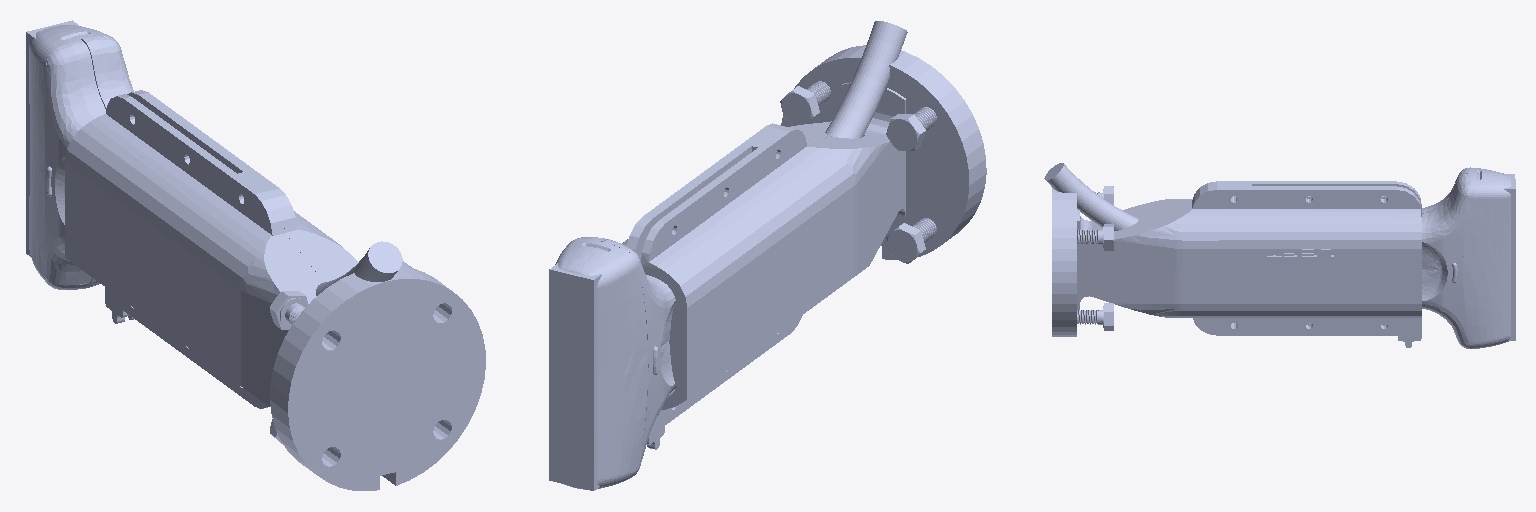
URDF robot description (ur5):
<?xml version="1.0" ?>
<!-- =================================================================================== -->
<!-- |    This document was autogenerated by xacro from ur5_robot.urdf.xacro           | -->
<!-- |    EDITING THIS FILE BY HAND IS NOT RECOMMENDED                                 | -->
<!-- =================================================================================== -->
<robot name="ur5" xmlns:xacro="http://www.ros.org/wiki/xacro">
  <!-- common stuff -->
  <gazebo>
    <plugin filename="libgazebo_ros_control.so" name="ros_control">
      <!--robotNamespace>/</robotNamespace-->
      <!--robotSimType>gazebo_ros_control/DefaultRobotHWSim</robotSimType-->
    </plugin>
    <!--
    <plugin name="gazebo_ros_power_monitor_controller" filename="libgazebo_ros_power_monitor.so">
      <alwaysOn>true</alwaysOn>
      <updateRate>1.0</updateRate>
      <timeout>5</timeout>
      <powerStateTopic>power_state</powerStateTopic>
      <powerStateRate>10.0</powerStateRate>
      <fullChargeCapacity>87.78</fullChargeCapacity>     
      <dischargeRate>-474</dischargeRate>
      <chargeRate>525</chargeRate>
      <dischargeVoltage>15.52</dischargeVoltage>
      <chargeVoltage>16.41</chargeVoltage>
    </plugin>
-->
  </gazebo>
  <!-- ur5 -->
  <!-- arm -->
  <link name="base_link">
    <visual>
      <geometry>
        <mesh filename="package://ur_description/meshes/ur5/visual/Base.dae"/>
      </geometry>
      <material name="LightGrey">
        <color rgba="0.7 0.7 0.7 1.0"/>
      </material>
    </visual>
    <collision>
      <geometry>
        <mesh filename="package://ur_description/meshes/ur5/collision/base.stl"/>
      </geometry>
    </collision>
    <inertial>
      <mass value="4.0"/>
      <origin rpy="0 0 0" xyz="0.0 0.0 0.0"/>
      <inertia ixx="0.00443333156" ixy="0.0" ixz="0.0" iyy="0.00443333156" iyz="0.0" izz="0.0072"/>
    </inertial>
  </link>
  <joint name="shoulder_pan_joint" type="revolute">
    <parent link="base_link"/>
    <child link="shoulder_link"/>
    <origin rpy="0.0 0.0 0.0" xyz="0.0 0.0 0.089159"/>
    <axis xyz="0 0 1"/>
    <limit effort="150.0" lower="-6.2831853" upper="6.2831853" velocity="3.15"/>
    <dynamics damping="0.0" friction="0.0"/>
  </joint>
  <link name="shoulder_link">
    <visual>
      <geometry>
        <mesh filename="package://ur_description/meshes/ur5/visual/Shoulder.dae"/>
      </geometry>
      <material name="LightGrey">
        <color rgba="0.7 0.7 0.7 1.0"/>
      </material>
    </visual>
    <collision>
      <geometry>
        <mesh filename="package://ur_description/meshes/ur5/collision/shoulder.stl"/>
      </geometry>
    </collision>
    <inertial>
      <mass value="3.7"/>
      <origin rpy="0 0 0" xyz="0.0 0.0 0.0"/>
      <inertia ixx="0.010267495893" ixy="0.0" ixz="0.0" iyy="0.010267495893" iyz="0.0" izz="0.00666"/>
    </inertial>
  </link>
  <joint name="shoulder_lift_joint" type="revolute">
    <parent link="shoulder_link"/>
    <child link="upper_arm_link"/>
    <origin rpy="0.0 1.570796325 0.0" xyz="0.0 0.13585 0.0"/>
    <axis xyz="0 1 0"/>
    <limit effort="150.0" lower="-6.2831853" upper="6.2831853" velocity="3.15"/>
    <dynamics damping="0.0" friction="0.0"/>
  </joint>
  <link name="upper_arm_link">
    <visual>
      <geometry>
        <mesh filename="package://ur_description/meshes/ur5/visual/UpperArm.dae"/>
      </geometry>
      <material name="LightGrey">
        <color rgba="0.7 0.7 0.7 1.0"/>
      </material>
    </visual>
    <collision>
      <geometry>
        <mesh filename="package://ur_description/meshes/ur5/collision/upper_arm.stl"/>
      </geometry>
    </collision>
    <inertial>
      <mass value="8.393"/>
      <origin rpy="0 0 0" xyz="0.0 0.0 0.28"/>
      <inertia ixx="0.22689067591" ixy="0.0" ixz="0.0" iyy="0.22689067591" iyz="0.0" izz="0.0151074"/>
    </inertial>
  </link>
  <joint name="elbow_joint" type="revolute">
    <parent link="upper_arm_link"/>
    <child link="forearm_link"/>
    <origin rpy="0.0 0.0 0.0" xyz="0.0 -0.1197 0.425"/>
    <axis xyz="0 1 0"/>
    <limit effort="150.0" lower="-6.2831853" upper="6.2831853" velocity="3.15"/>
    <dynamics damping="0.0" friction="0.0"/>
  </joint>
  <link name="forearm_link">
    <visual>
      <geometry>
        <mesh filename="package://ur_description/meshes/ur5/visual/Forearm.dae"/>
      </geometry>
      <material name="LightGrey">
        <color rgba="0.7 0.7 0.7 1.0"/>
      </material>
    </visual>
    <collision>
      <geometry>
        <mesh filename="package://ur_description/meshes/ur5/collision/forearm.stl"/>
      </geometry>
    </collision>
    <inertial>
      <mass value="2.275"/>
      <origin rpy="0 0 0" xyz="0.0 0.0 0.25"/>
      <inertia ixx="0.049443313556" ixy="0.0" ixz="0.0" iyy="0.049443313556" iyz="0.0" izz="0.004095"/>
    </inertial>
  </link>
  <joint name="wrist_1_joint" type="revolute">
    <parent link="forearm_link"/>
    <child link="wrist_1_link"/>
    <origin rpy="0.0 1.570796325 0.0" xyz="0.0 0.0 0.39225"/>
    <axis xyz="0 1 0"/>
    <limit effort="28.0" lower="-6.2831853" upper="6.2831853" velocity="3.2"/>
    <dynamics damping="0.0" friction="0.0"/>
  </joint>
  <link name="wrist_1_link">
    <visual>
      <geometry>
        <mesh filename="package://ur_description/meshes/ur5/visual/Wrist1.dae"/>
      </geometry>
      <material name="LightGrey">
        <color rgba="0.7 0.7 0.7 1.0"/>
      </material>
    </visual>
    <collision>
      <geometry>
        <mesh filename="package://ur_description/meshes/ur5/collision/wrist_1.stl"/>
      </geometry>
    </collision>
    <inertial>
      <mass value="1.219"/>
      <origin rpy="0 0 0" xyz="0.0 0.0 0.0"/>
      <inertia ixx="0.111172755531" ixy="0.0" ixz="0.0" iyy="0.111172755531" iyz="0.0" izz="0.21942"/>
    </inertial>
  </link>
  <joint name="wrist_2_joint" type="revolute">
    <parent link="wrist_1_link"/>
    <child link="wrist_2_link"/>
    <origin rpy="0.0 0.0 0.0" xyz="0.0 0.093 0.0"/>
    <axis xyz="0 0 1"/>
    <limit effort="28.0" lower="-6.2831853" upper="6.2831853" velocity="3.2"/>
    <dynamics damping="0.0" friction="0.0"/>
  </joint>
  <link name="wrist_2_link">
    <visual>
      <geometry>
        <mesh filename="package://ur_description/meshes/ur5/visual/Wrist2.dae"/>
      </geometry>
      <material name="LightGrey">
        <color rgba="0.7 0.7 0.7 1.0"/>
      </material>
    </visual>
    <collision>
      <geometry>
        <mesh filename="package://ur_description/meshes/ur5/collision/wrist_2.stl"/>
      </geometry>
    </collision>
    <inertial>
      <mass value="1.219"/>
      <origin rpy="0 0 0" xyz="0.0 0.0 0.0"/>
      <inertia ixx="0.111172755531" ixy="0.0" ixz="0.0" iyy="0.111172755531" iyz="0.0" izz="0.21942"/>
    </inertial>
  </link>
  <joint name="wrist_3_joint" type="revolute">
    <parent link="wrist_2_link"/>
    <child link="wrist_3_link"/>
    <origin rpy="0.0 0.0 0.0" xyz="0.0 0.0 0.09465"/>
    <axis xyz="0 1 0"/>
    <limit effort="28.0" lower="-6.2831853" upper="6.2831853" velocity="3.2"/>
    <dynamics damping="0.0" friction="0.0"/>
  </joint>
  <link name="wrist_3_link">
    <visual>
      <geometry>
        <mesh filename="package://ur_description/meshes/ur5/visual/Wrist3.dae"/>
      </geometry>
      <material name="LightGrey">
        <color rgba="0.7 0.7 0.7 1.0"/>
      </material>
    </visual>
    <collision>
      <geometry>
        <mesh filename="package://ur_description/meshes/ur5/collision/wrist_3.stl"/>
      </geometry>
    </collision>
    <inertial>
      <mass value="0.1879"/>
      <origin rpy="0 0 0" xyz="0.0 0.0 0.0"/>
      <inertia ixx="0.0171364731454" ixy="0.0" ixz="0.0" iyy="0.0171364731454" iyz="0.0" izz="0.033822"/>
    </inertial>
  </link>
  <joint name="ee_fixed_joint" type="fixed">
    <parent link="wrist_3_link"/>
    <child link="ee_link"/>
    <!--origin rpy="0.0 0.0 1.570796325" xyz="0.0 0.0823 0.0"/-->
    <origin rpy="-1.570796325 0.0 1.570796325" xyz="0.0 0.0823 0.0"/>
  </joint>
  <link name="ee_link">
    <collision>
      <geometry>
        <box size="0.01 0.01 0.01"/>
      </geometry>
      <origin rpy="0 0 0" xyz="-0.01 0 0"/>
    </collision>
  </link>
  <link name="ultrasound_sensor">
    <inertial>
      <!-- <origin
        xyz="0.0 0.0 0.0"
        rpy="0 0 0" /> -->
      <mass value="0.27748"/>
      <inertia ixx="0.000772393706918962" ixy="3.62561532781402E-07" ixz="-8.97669927346242E-06" iyy="-5.67458125370052E-06" iyz="-9.70334791219381E-05" izz="5.67458125370057E-06"/>
    </inertial>
    <visual>
      <!-- Reajust the position of the ultrasound_sensor frame -->
      <origin rpy="0 0 0" xyz="0 0 0.037"/>
      <geometry>
        <mesh filename="package://sensor_description/meshes/Ultra_Sensor.STL"/>
      </geometry>
      <material name="">
        <color rgba="0.79216 0.81961 0.93333 1"/>
      </material>
    </visual>
    <collision>
      <origin rpy="0 0 0" xyz="0 0 0"/>
      <geometry>
        <mesh filename="package://sensor_description/meshes/Ultra_Sensor.STL"/>
      </geometry>
    </collision>
  </link>
  <joint name="sensor_ee_joint" type="fixed">
    <parent link="ee_link"/>
    <child link="ultrasound_sensor"/>
    
    <!-- x is obtained by trial and error in rviz via naked eye checking -->
    <!-- origin rpy="0.0 -1.57 0.0" xyz="0.14751 0.0 0.0"/-->
    <origin rpy="0.0 -1.57 0.0" xyz="0.184751 0.0 0.0"/>
  </joint>
  <transmission name="shoulder_pan_trans">
    <type>transmission_interface/SimpleTransmission</type>
    <joint name="shoulder_pan_joint"/>
    <actuator name="shoulder_pan_motor">
      <hardwareInterface>EffortJointInterface</hardwareInterface>
      <mechanicalReduction>1</mechanicalReduction>
    </actuator>
  </transmission>
  <transmission name="shoulder_lift_trans">
    <type>transmission_interface/SimpleTransmission</type>
    <joint name="shoulder_lift_joint"/>
    <actuator name="shoulder_lift_motor">
      <hardwareInterface>EffortJointInterface</hardwareInterface>
      <mechanicalReduction>1</mechanicalReduction>
    </actuator>
  </transmission>
  <transmission name="elbow_trans">
    <type>transmission_interface/SimpleTransmission</type>
    <joint name="elbow_joint"/>
    <actuator name="elbow_motor">
      <hardwareInterface>EffortJointInterface</hardwareInterface>
      <mechanicalReduction>1</mechanicalReduction>
    </actuator>
  </transmission>
  <transmission name="wrist_1_trans">
    <type>transmission_interface/SimpleTransmission</type>
    <joint name="wrist_1_joint"/>
    <actuator name="wrist_1_motor">
      <hardwareInterface>EffortJointInterface</hardwareInterface>
      <mechanicalReduction>1</mechanicalReduction>
    </actuator>
  </transmission>
  <transmission name="wrist_2_trans">
    <type>transmission_interface/SimpleTransmission</type>
    <joint name="wrist_2_joint"/>
    <actuator name="wrist_2_motor">
      <hardwareInterface>EffortJointInterface</hardwareInterface>
      <mechanicalReduction>1</mechanicalReduction>
    </actuator>
  </transmission>
  <transmission name="wrist_3_trans">
    <type>transmission_interface/SimpleTransmission</type>
    <joint name="wrist_3_joint"/>
    <actuator name="wrist_3_motor">
      <hardwareInterface>EffortJointInterface</hardwareInterface>
      <mechanicalReduction>1</mechanicalReduction>
    </actuator>
  </transmission>
  <link name="world"/>
  <joint name="world_joint" type="fixed">
    <parent link="world"/>
    <child link="base_link"/>
    <origin rpy="0.0 0.0 0.0" xyz="0.0 0.0 0.0"/>
  </joint>
</robot>

--- What the picture shows (computed from the rendered views, not written in the file) ---
Views: 3 orthographic renders of the robot side by side, from view 1: azimuth 30°, elevation 25°; view 2: azimuth 150°, elevation 25°; view 3: azimuth 270°, elevation 25°.
Model ur5 with 10 links and 9 joints (6 revolute, 3 fixed), rooted at world, posed all joints at 0.
Visible links, largest first — view 1: ultrasound_sensor; view 2: ultrasound_sensor; view 3: ultrasound_sensor.
Link boxes in pixels (bbox=[...]): ultrasound_sensor: bbox=[26, 20, 485, 490]; ultrasound_sensor: bbox=[549, 21, 986, 490]; ultrasound_sensor: bbox=[1044, 163, 1515, 348].
Bounding box of the posed robot: 0.063 × 0.1888 × 0.0801 m (x, y, z).
Meshes: 8 distinct files referenced, 1 mesh visuals loaded (1 binary STL); not drawn: 7 (reference not matched to a file when rendering).